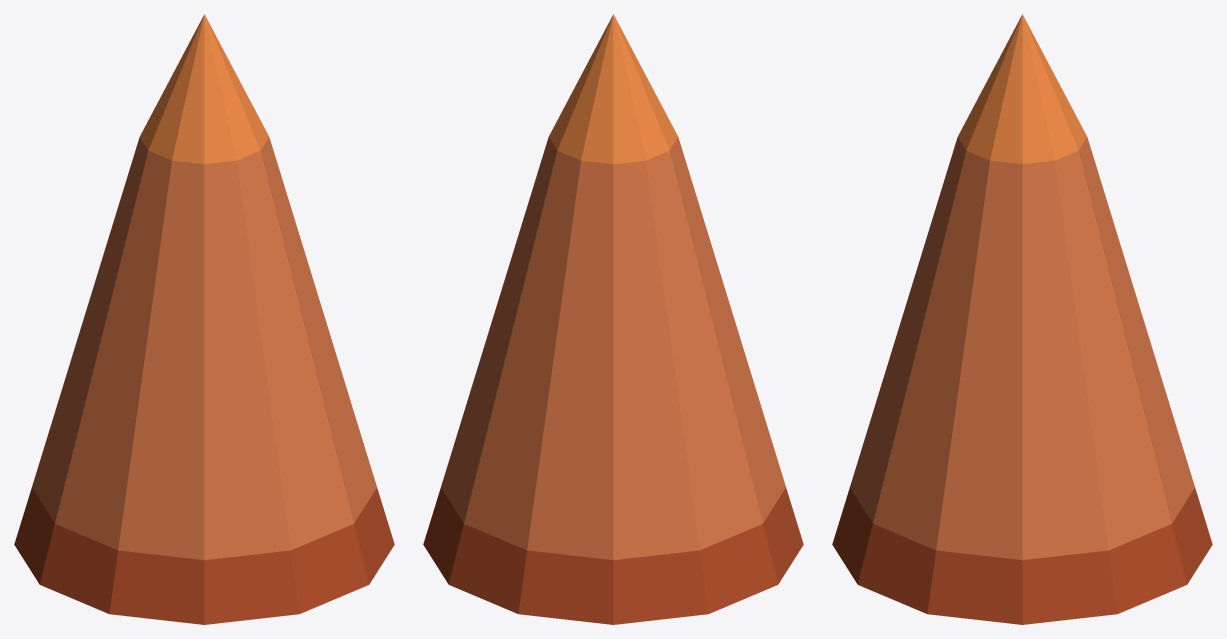
Rendered from ESPINHO ÚNICO 1.fbx.
3 renders of one model, left to right at view 1: azimuth 30°, elevation 25°; view 2: azimuth 150°, elevation 25°; view 3: azimuth 270°, elevation 25°, orthographic.
Parts seen in each view (by area): view 1: Circle.001; view 2: Circle.001; view 3: Circle.001.
Part boxes in pixels (x1=…): Circle.001: x1=14, y1=14, x2=394, y2=624; Circle.001: x1=423, y1=14, x2=803, y2=624; Circle.001: x1=832, y1=14, x2=1212, y2=624.
Bounding box in the file's own units: 37.73 × 58.05 × 37.73.
Materials: 1 (1 with a texture image).
